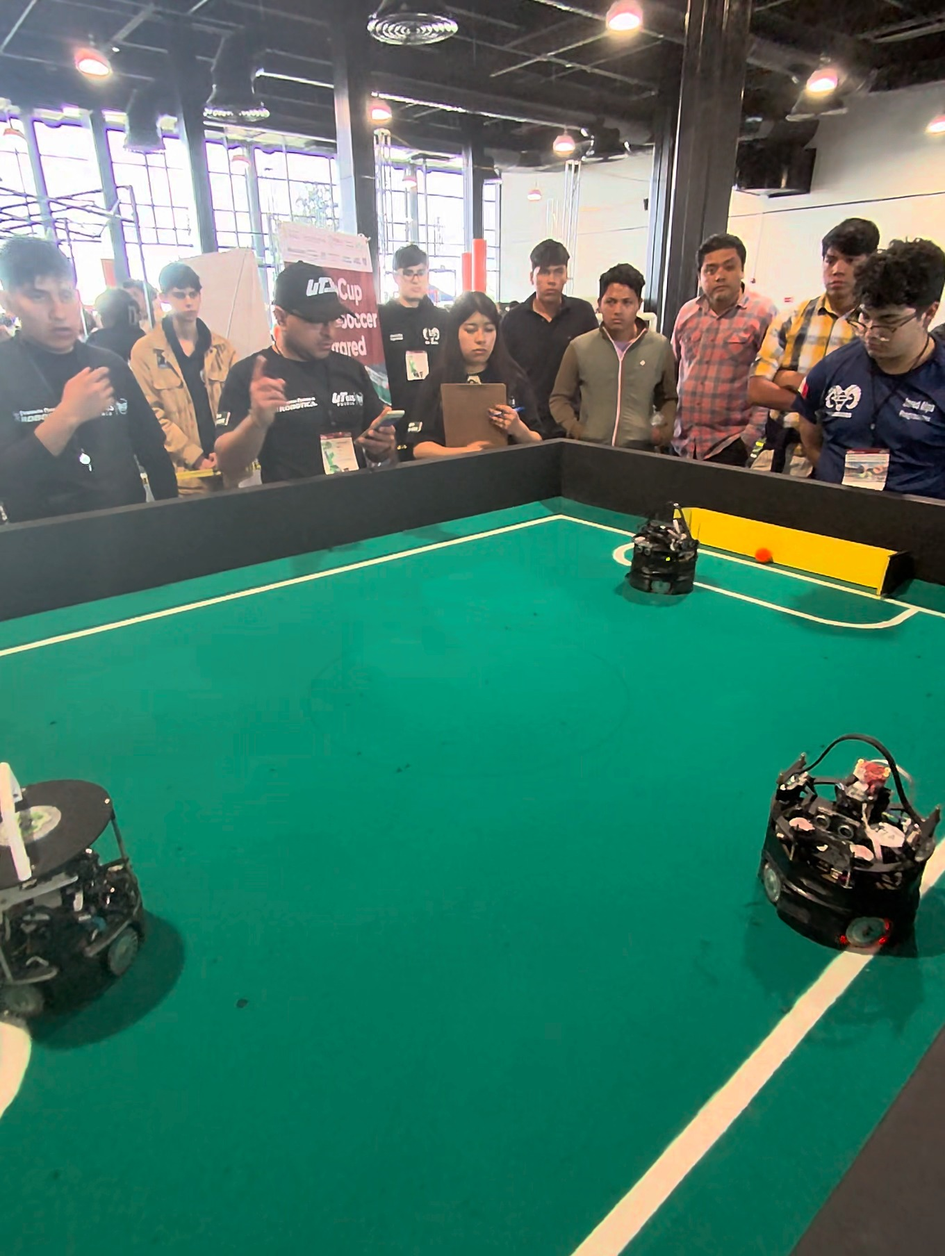Robot: (0, 741, 177, 1048), (763, 723, 943, 965), (626, 502, 702, 603)
pelota: (751, 543, 775, 569)
